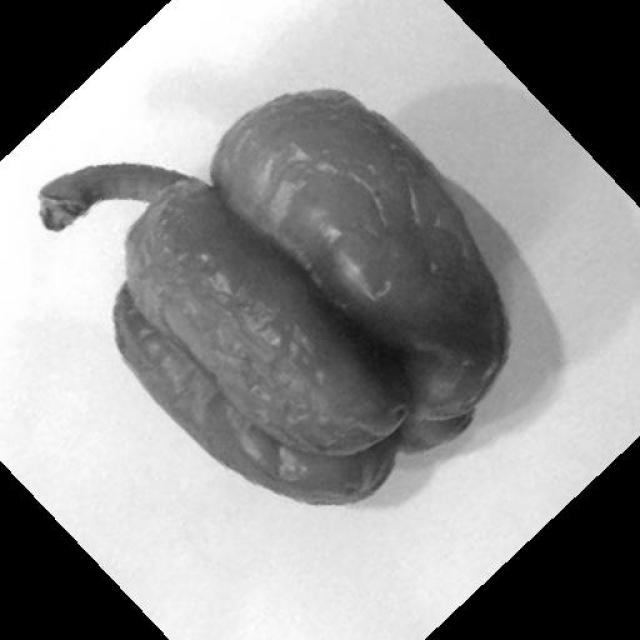Stale_Capsicum: (108, 83, 490, 500)
